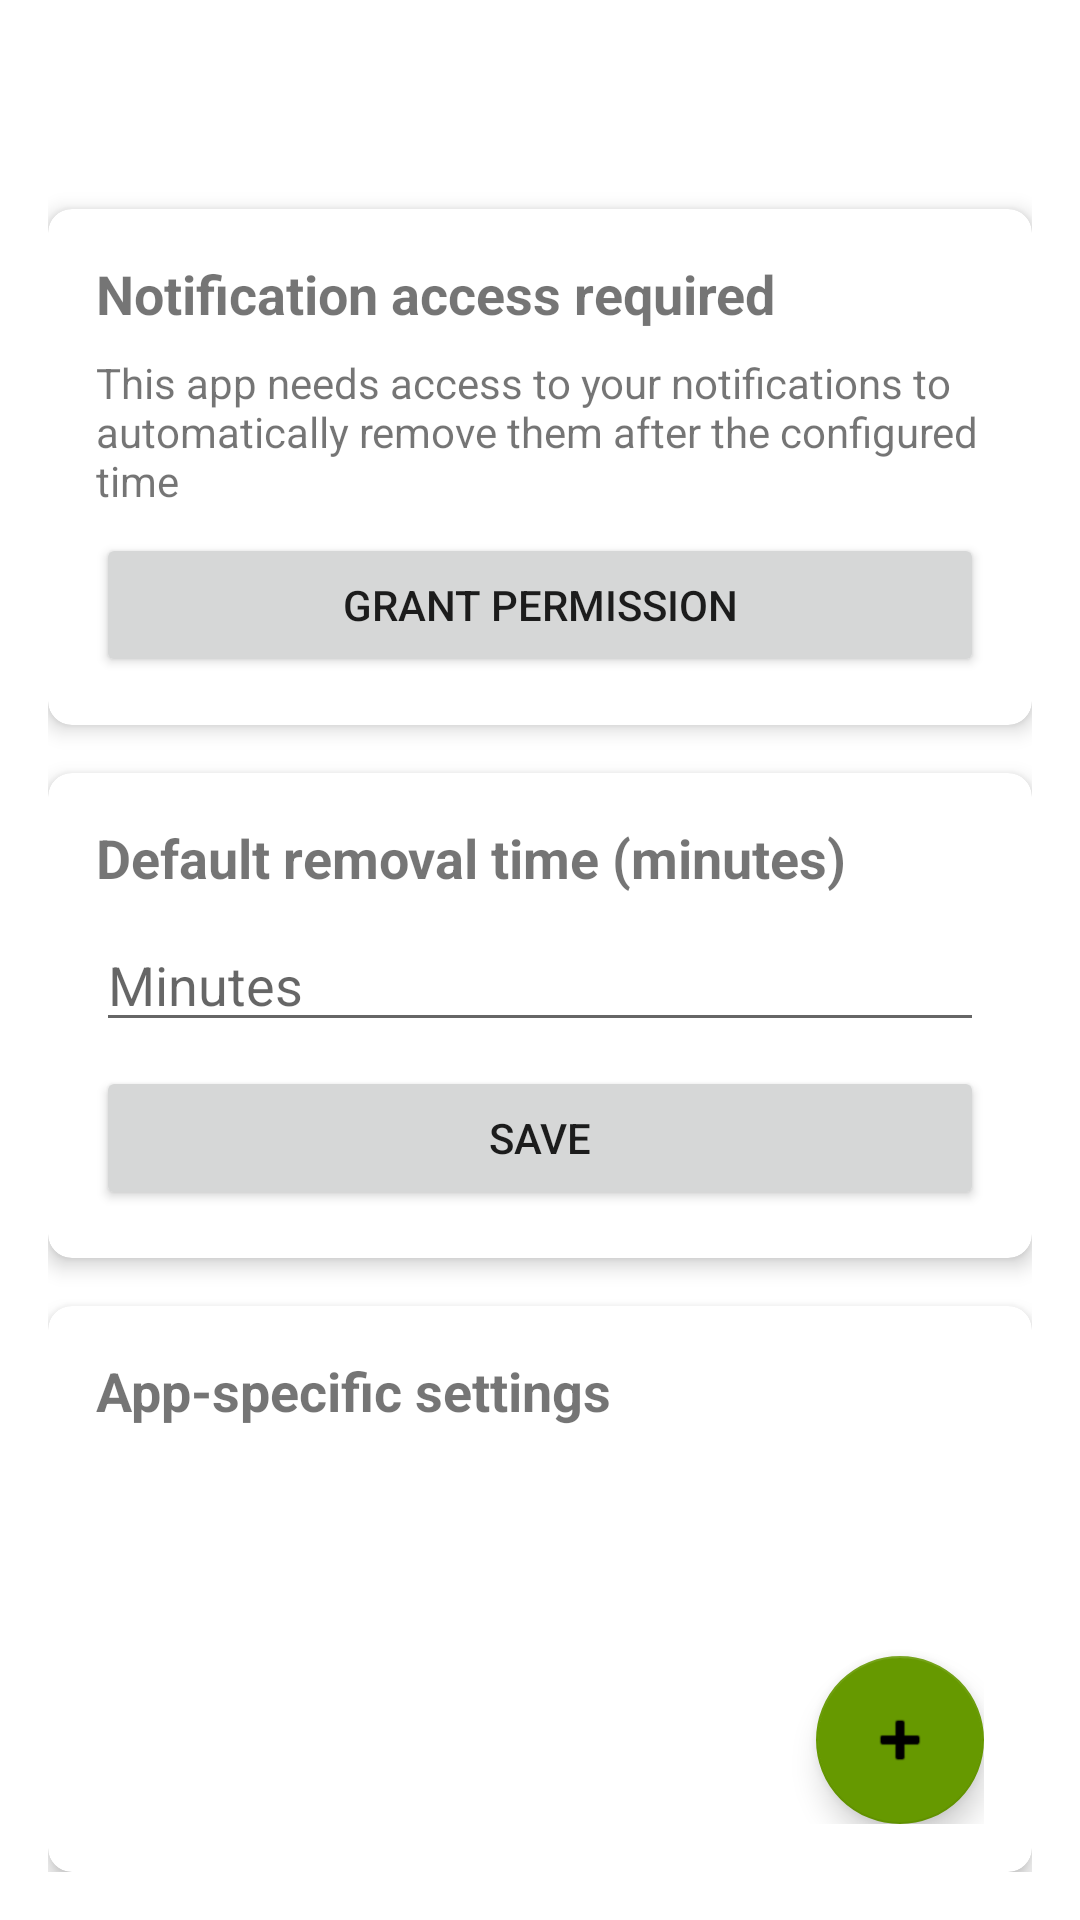

Screen size 1080px×1920px. Icon name, then its center in pixels as (x,y):
Add app setting: (900,1740)
